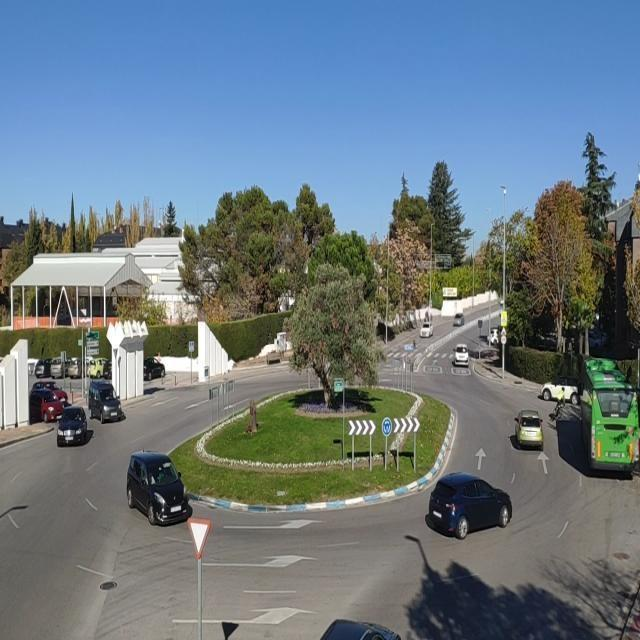Bus: (576, 358, 640, 474)
Car: (423, 470, 512, 540), (126, 450, 191, 524), (313, 617, 404, 640), (88, 381, 125, 423), (28, 387, 65, 423), (56, 407, 90, 446), (540, 375, 580, 403), (515, 410, 543, 448), (32, 380, 68, 405), (142, 357, 166, 381), (50, 355, 72, 379), (87, 357, 110, 379), (68, 357, 91, 379), (589, 330, 609, 350), (453, 344, 469, 367), (538, 332, 558, 350), (35, 358, 51, 378), (488, 326, 501, 346), (419, 321, 434, 337), (102, 357, 112, 379), (453, 313, 464, 326)
